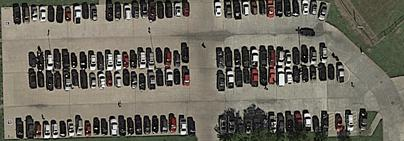parkingspot: (1, 0, 190, 28), (3, 114, 195, 140), (28, 47, 190, 72), (28, 67, 190, 91), (216, 63, 344, 91), (213, 0, 331, 24), (218, 111, 328, 136), (216, 46, 327, 70), (333, 110, 354, 133), (355, 109, 367, 131)
